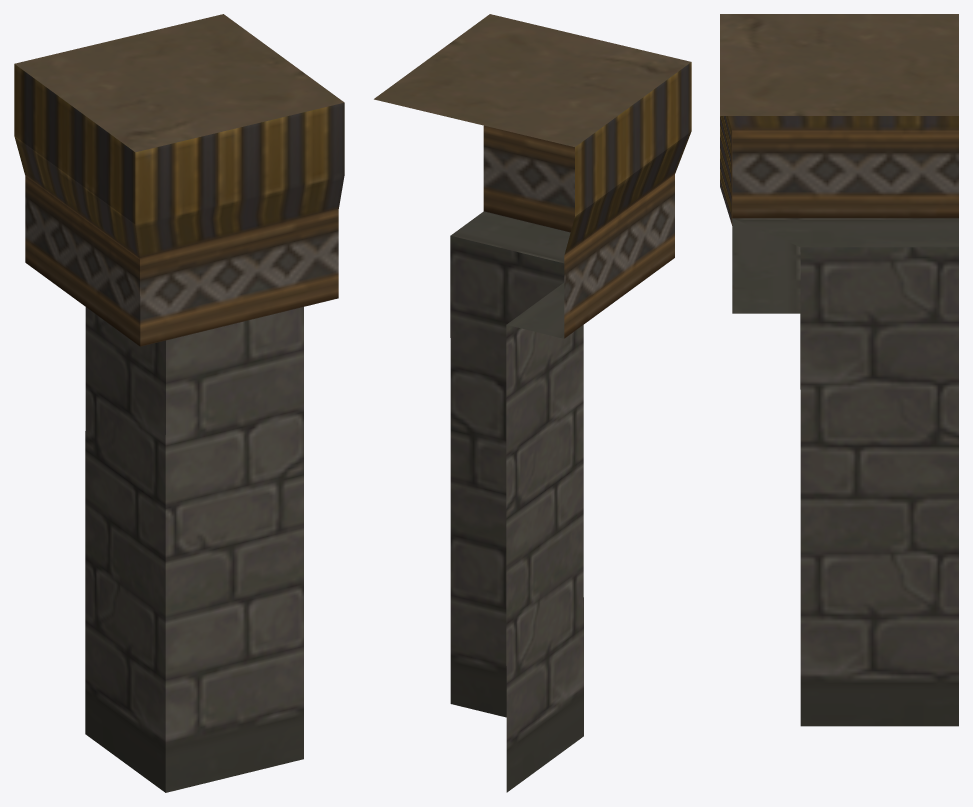
The model's file is Battle06_Wall_04.FBX.
3 renders of one model, left to right at view 1: azimuth 30°, elevation 25°; view 2: azimuth 150°, elevation 25°; view 3: azimuth 270°, elevation 25°, orthographic. The views are drawn at different scales.
Visible parts, largest first — view 1: Battle06_Wall_04; view 2: Battle06_Wall_04; view 3: Battle06_Wall_04.
Boxes of the visible parts, x1,y1,x2,y2 form: Battle06_Wall_04: [14, 14, 344, 792]; Battle06_Wall_04: [374, 14, 691, 792]; Battle06_Wall_04: [720, 14, 958, 726].
Size of the model in its own units: 2.96 by 9.28 by 2.96.
